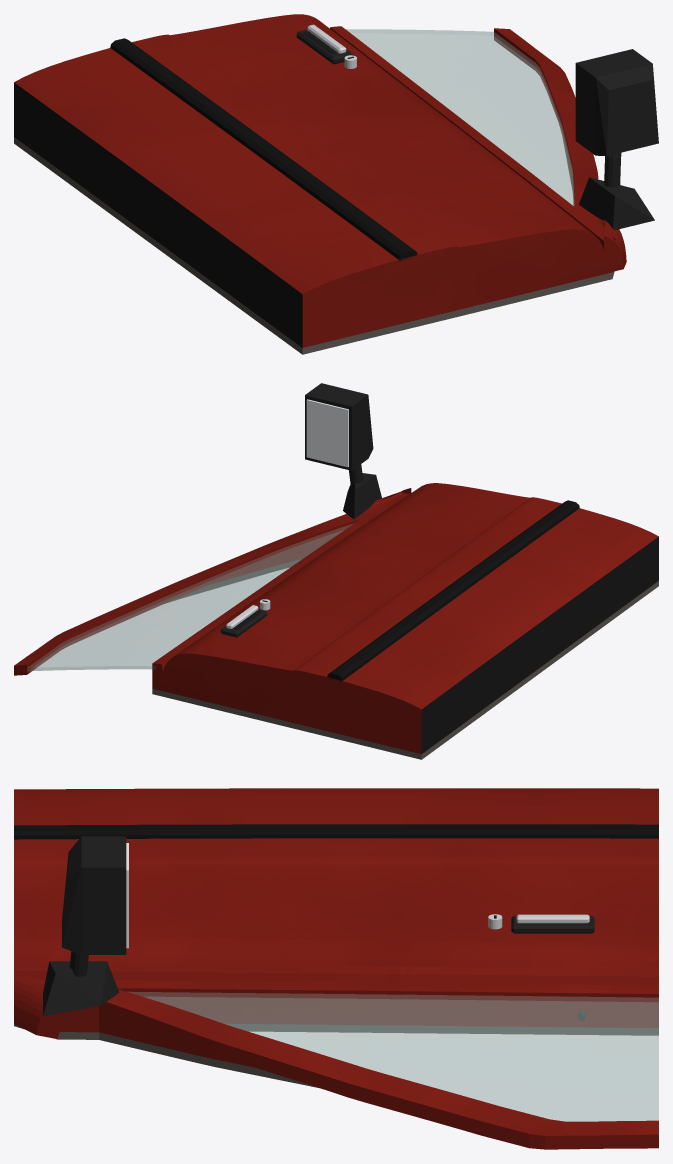
The model's file is porta_dianteira_d.glb.
3 views of the same model, one above another, from view 1: azimuth 30°, elevation 25°; view 2: azimuth 150°, elevation 25°; view 3: azimuth 270°, elevation 25° (orthographic). The views are drawn at different scales.
Parts seen in each view (by area): view 1: porta_dianteira_d_pintura, porta_dianteira_d_vidro, porta_dianteira_d_chassi, porta_dianteira_d_1_plastico_preto, porta_dianteira_d_borracha, porta_dianteira_d_forro_porta, porta_dianteira_d_cromado, porta_dianteira_d_plastico_preto; view 2: porta_dianteira_d_pintura, porta_dianteira_d_vidro, porta_dianteira_d_chassi, porta_dianteira_d_borracha, porta_dianteira_d_1_plastico_preto, porta_dianteira_d_forro_porta, porta_dianteira_d_1_espelho_retrovisor; view 3: porta_dianteira_d_pintura, porta_dianteira_d_vidro, porta_dianteira_d_1_plastico_preto, porta_dianteira_d_borracha, porta_dianteira_d_forro_porta, porta_dianteira_d_plastico_preto, porta_dianteira_d_cromado.
Part boxes in pixels (x1,y1,x2,y2): porta_dianteira_d_pintura: (14, 14, 626, 347); porta_dianteira_d_vidro: (346, 29, 574, 205); porta_dianteira_d_chassi: (14, 31, 353, 347); porta_dianteira_d_1_plastico_preto: (575, 49, 658, 229); porta_dianteira_d_borracha: (110, 38, 417, 261); porta_dianteira_d_forro_porta: (14, 126, 614, 354); porta_dianteira_d_cromado: (307, 24, 356, 68); porta_dianteira_d_plastico_preto: (296, 29, 353, 64); porta_dianteira_d_pintura: (14, 483, 658, 754); porta_dianteira_d_vidro: (27, 524, 352, 671); porta_dianteira_d_chassi: (233, 537, 658, 753); porta_dianteira_d_borracha: (327, 500, 579, 681); porta_dianteira_d_1_plastico_preto: (305, 383, 381, 519); porta_dianteira_d_forro_porta: (152, 559, 658, 759); porta_dianteira_d_1_espelho_retrovisor: (306, 399, 348, 467); porta_dianteira_d_pintura: (14, 788, 658, 1149); porta_dianteira_d_vidro: (129, 992, 658, 1121); porta_dianteira_d_1_plastico_preto: (43, 836, 126, 1016); porta_dianteira_d_borracha: (14, 824, 658, 839); porta_dianteira_d_forro_porta: (14, 1023, 658, 1087); porta_dianteira_d_plastico_preto: (511, 915, 594, 1021); porta_dianteira_d_cromado: (488, 914, 589, 929).
Bounding box in the file's own units: 0.997 × 0.3936 × 1.
10 materials, 1 textured.
